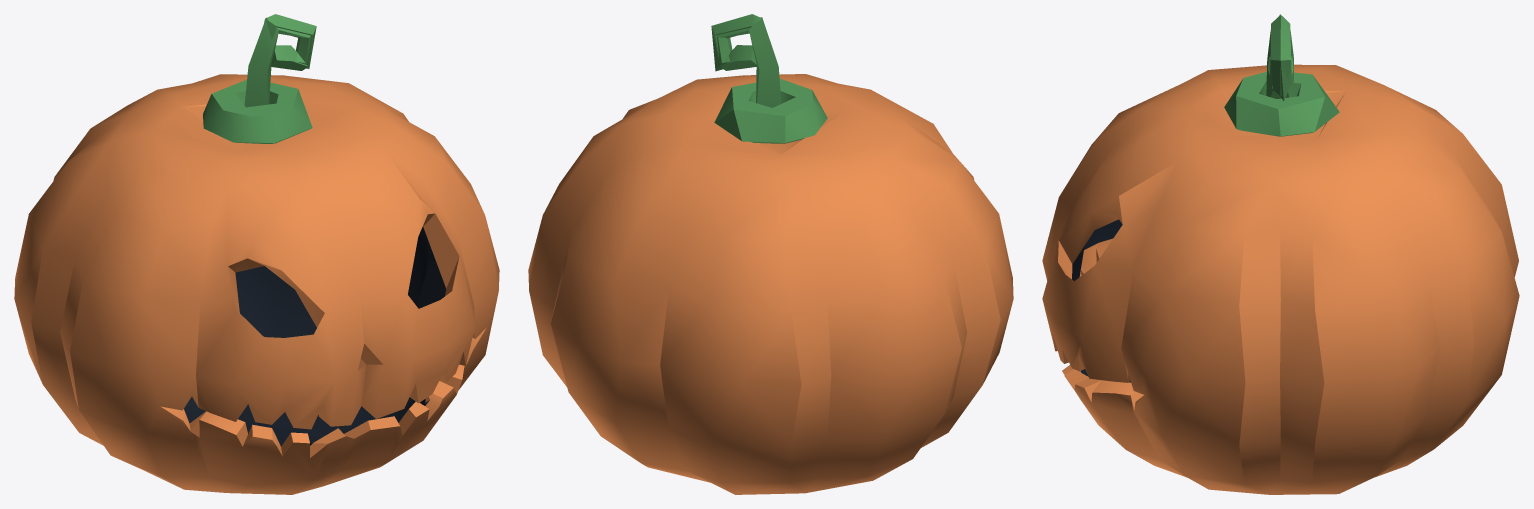
Rendered from Abobora.fbx.
The picture shows the model from 3 angles, left to right: view 1: azimuth 30°, elevation 25°; view 2: azimuth 150°, elevation 25°; view 3: azimuth 270°, elevation 25°; orthographic projection.
Visible parts, largest first — view 1: Vert.003; view 2: Vert.003; view 3: Vert.003.
Boxes of the visible parts, x1,y1,x2,y2 form: Vert.003: (14,14,499,494); Vert.003: (528,14,1013,494); Vert.003: (1042,14,1519,494).
Bounding box in the file's own units: 0.6258 × 0.6175 × 0.6086.
